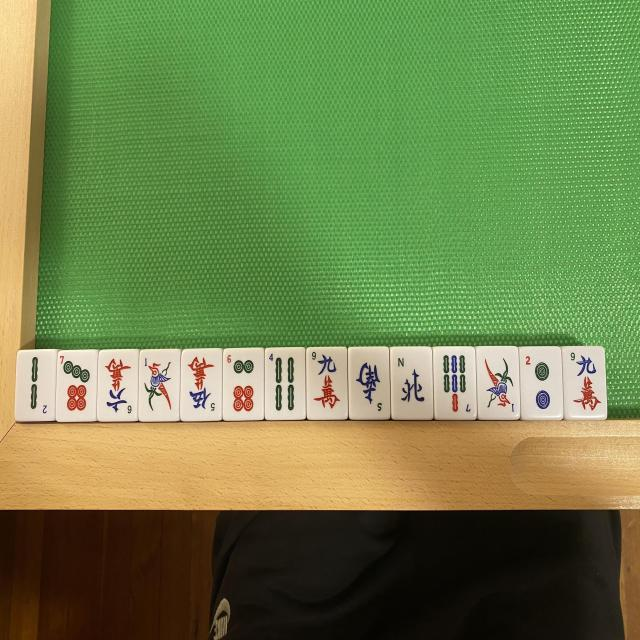hwn: (394, 348, 432, 416)
hws: (351, 351, 388, 419)
sb1: (478, 352, 518, 418), (143, 354, 179, 421)
sb2: (16, 351, 54, 418)
sb4: (266, 350, 304, 418)
sb7: (437, 350, 475, 419)
sc5: (184, 350, 223, 419)
sc6: (102, 350, 140, 418)
sc9: (567, 349, 607, 418), (308, 350, 346, 420)
sd2: (523, 350, 561, 418)
sd6: (222, 350, 261, 418)
sd7: (58, 352, 96, 420)
